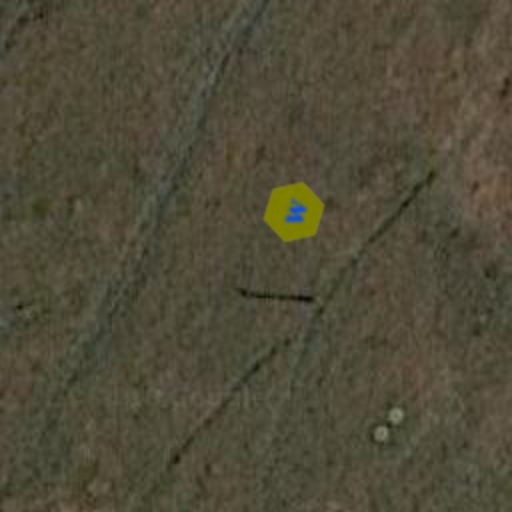hexagon: (254, 172, 334, 252)
